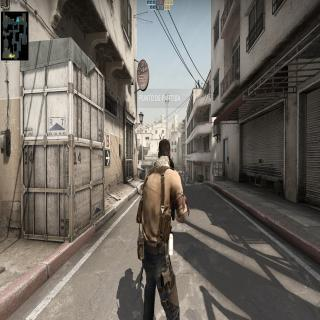T-Head: (158, 140, 172, 160)
